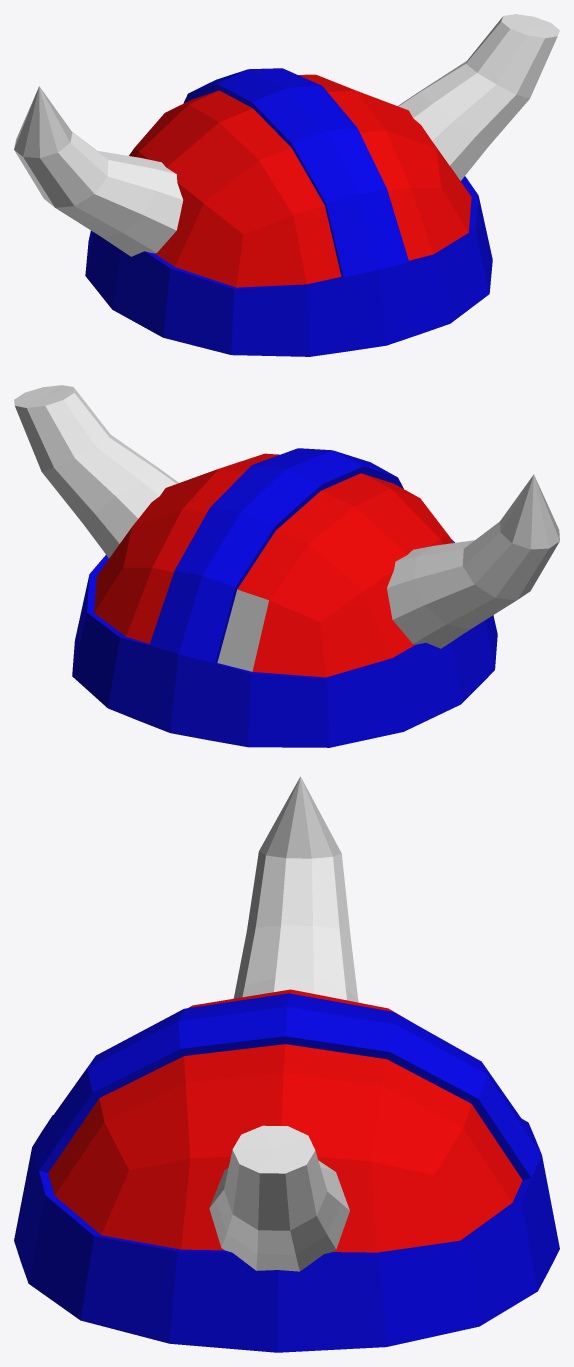
File: Viking_Helmet.fbx
3 views of the same model, one above another, from view 1: azimuth 30°, elevation 25°; view 2: azimuth 150°, elevation 25°; view 3: azimuth 270°, elevation 25° (orthographic). The views are drawn at different scales.
Visible parts, largest first — view 1: Viking_Hat; view 2: Viking_Hat; view 3: Viking_Hat.
Boxes of the visible parts, left/top/right/bottom form: Viking_Hat: left=14, top=14, right=559, bottom=356; Viking_Hat: left=14, top=385, right=559, bottom=747; Viking_Hat: left=14, top=776, right=559, bottom=1352.
Size of the model in its own units: 64.18 by 28.08 by 43.95.
